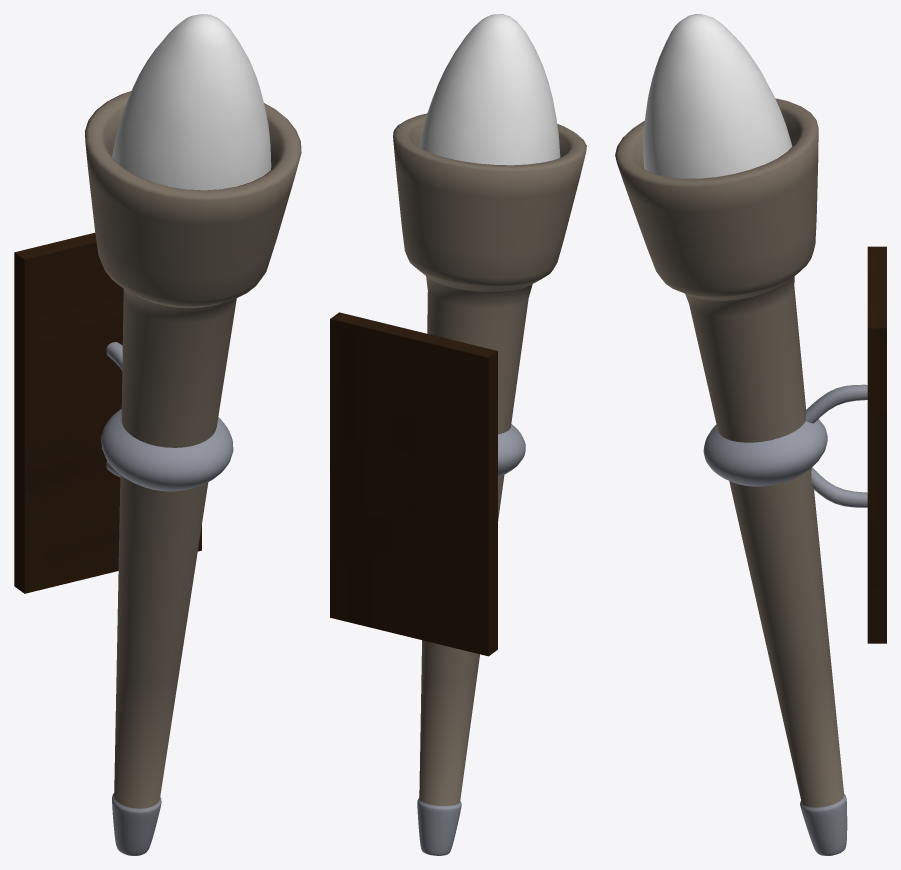
The model's file is Torch.fbx.
3 views of the same model, side by side, from view 1: azimuth 30°, elevation 25°; view 2: azimuth 150°, elevation 25°; view 3: azimuth 270°, elevation 25° (orthographic). The views are drawn at different scales.
Visible parts, largest first — view 1: Torch Rotated, Cube.020, Flame; view 2: Cube.020, Torch Rotated, Flame; view 3: Torch Rotated, Flame, Cube.020, Circle.
Part boxes in pixels (box(x1,y1,x2,y2)): Torch Rotated: box(84, 91, 301, 855); Cube.020: box(14, 232, 201, 593); Flame: box(112, 14, 271, 190); Cube.020: box(330, 312, 497, 656); Torch Rotated: box(393, 113, 586, 855); Flame: box(419, 14, 560, 165); Torch Rotated: box(615, 98, 847, 855); Flame: box(643, 14, 792, 178); Cube.020: box(867, 246, 886, 643); Circle: box(806, 384, 867, 507).
Bounding box in the file's own units: 21.3 × 95.4 × 28.14.
